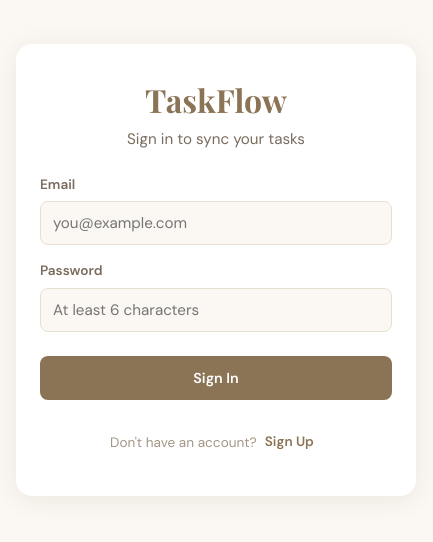
Test: Auth component › shows validation error for short password
This screenshot has width=433, height=542.
Type "test@example.com" into the field labelled "Email". click: (216, 223)
box: [40,201,392,245]
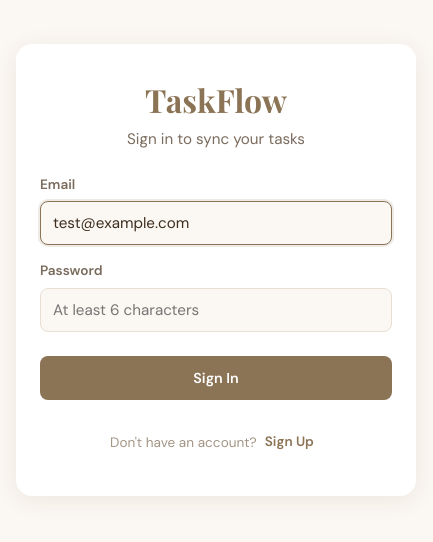
Type "123" into the password field labelled "Password". click: (216, 310)
box: [40,288,392,332]
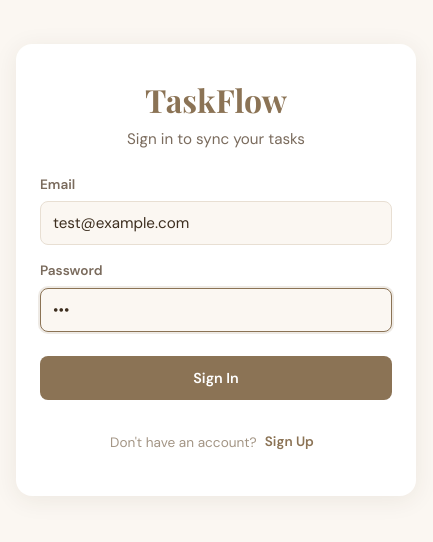
Click the button "Sign In". click: (216, 378)
box: [40,356,392,400]
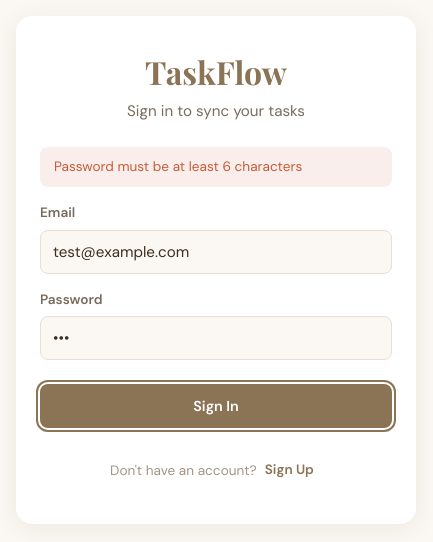
Expected: the text "Password must be at least 6 characters" is shown, [40,147,392,187]
